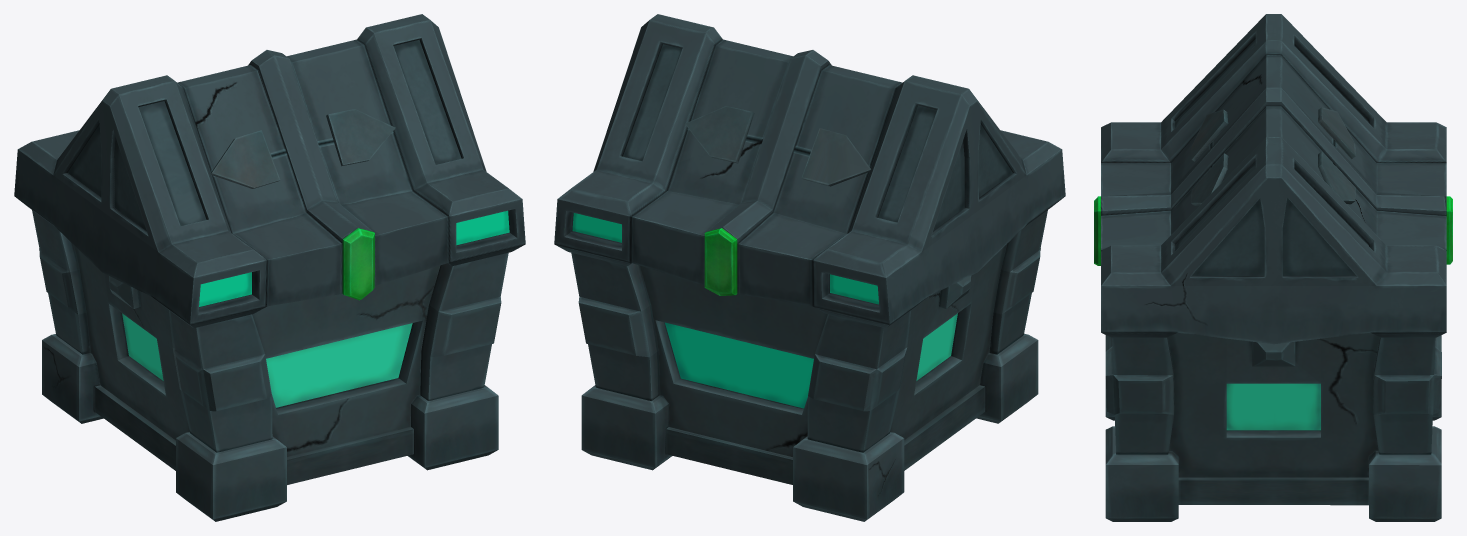
The model's file is Stone Chest.fbx.
3 views of the same model, side by side, from view 1: azimuth 30°, elevation 25°; view 2: azimuth 150°, elevation 25°; view 3: azimuth 270°, elevation 25° (orthographic).
Visible parts, largest first — view 1: Stone Chest.Roof, Stone Chest; view 2: Stone Chest.Roof, Stone Chest; view 3: Stone Chest.Roof, Stone Chest.
Part boxes in pixels (box(x1,y1,x2,y2)): Stone Chest.Roof: box(14, 14, 525, 328); Stone Chest: box(32, 210, 508, 521); Stone Chest.Roof: box(554, 14, 1065, 328); Stone Chest: box(571, 210, 1047, 521); Stone Chest.Roof: box(1094, 14, 1452, 344); Stone Chest: box(1105, 332, 1441, 521).
Bounding box in the file's own units: 104 × 112 × 98.46.
